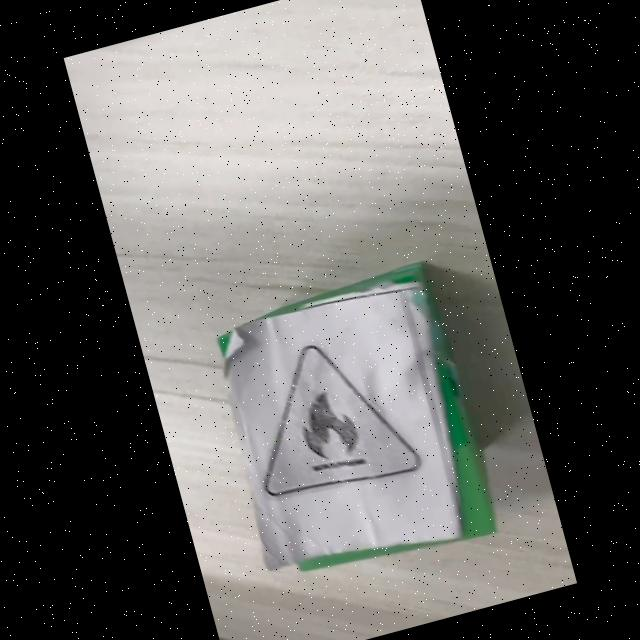Fire: (266, 343, 420, 495)
